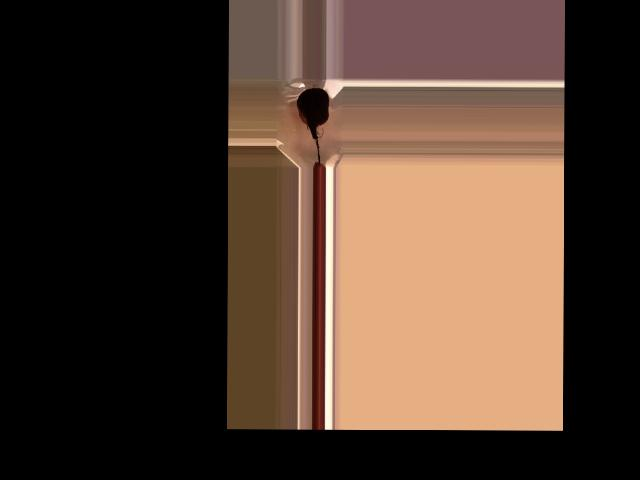beet: (296, 88, 328, 164)
